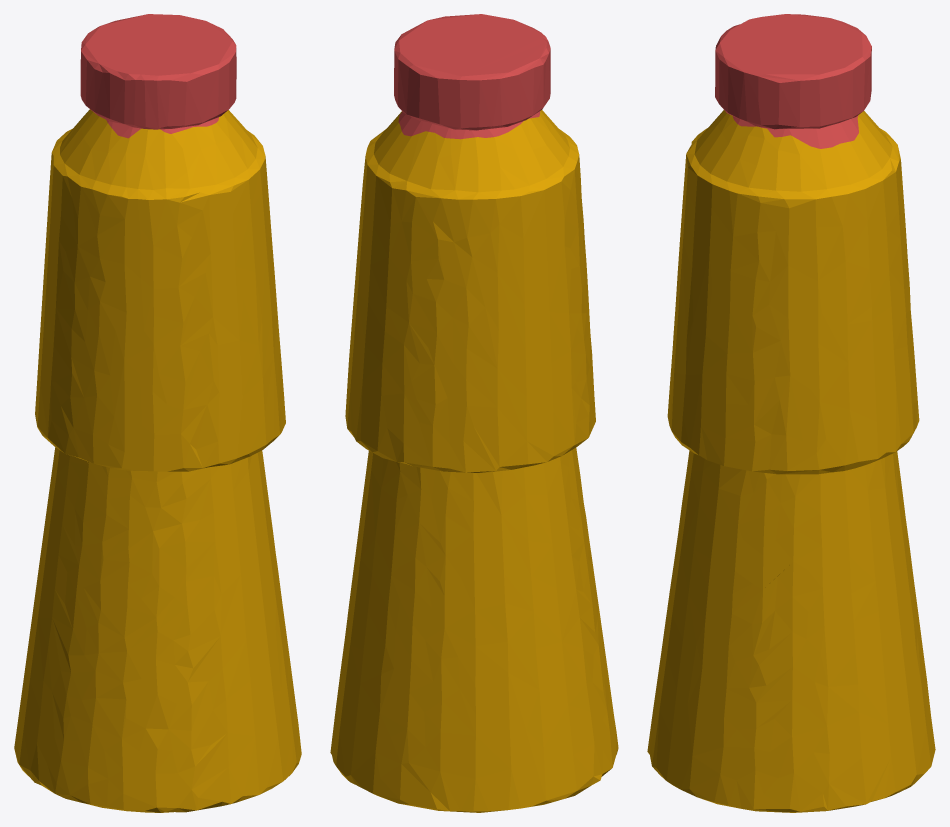
File: fractured_43_2pcs.glb
3 views of the same model, side by side, from view 1: azimuth 30°, elevation 25°; view 2: azimuth 150°, elevation 25°; view 3: azimuth 270°, elevation 25° (orthographic).
Visible parts, largest first — view 1: piece_0.obj, piece_1.obj; view 2: piece_0.obj, piece_1.obj; view 3: piece_0.obj, piece_1.obj.
Boxes of the visible parts, bbox=[...] form: piece_0.obj: bbox=[14, 109, 301, 812]; piece_1.obj: bbox=[80, 14, 236, 138]; piece_0.obj: bbox=[330, 110, 618, 812]; piece_1.obj: bbox=[394, 14, 550, 139]; piece_0.obj: bbox=[647, 110, 935, 812]; piece_1.obj: bbox=[715, 14, 871, 148].
Size of the model in its own units: 0.3678 by 1 by 0.3677.
